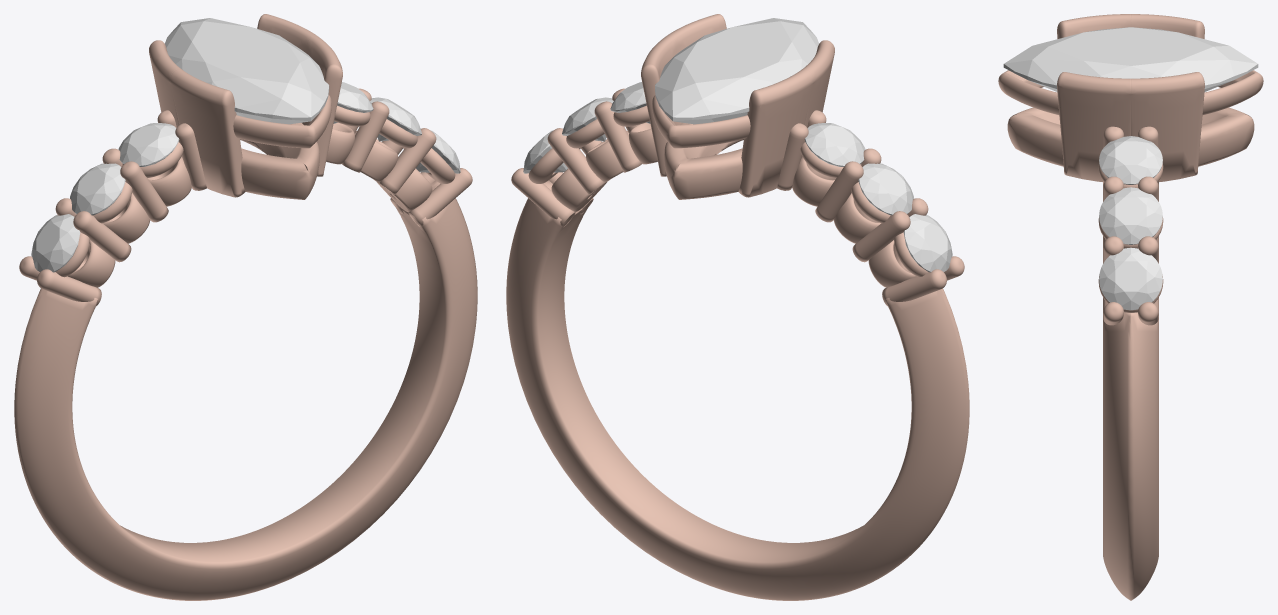
File: diamond-marquise-rosegold-halfmoonbezel-knifeedge-7stone.glb
3 views of the same model, side by side, from view 1: azimuth 30°, elevation 25°; view 2: azimuth 150°, elevation 25°; view 3: azimuth 270°, elevation 25° (orthographic). The views are drawn at different scales.
Parts seen in each view (by area): view 1: metal.003, stone.001, dia.002, dia.015, dia.016, dia.018, dia.019, dia.017; view 2: metal.003, stone.001, dia.002, dia.015, dia.016, dia.018, dia.019, dia.017; view 3: metal.003, stone.001, dia.017, dia.018, dia.019.
Part boxes in pixels (x1=…): metal.003: x1=14, y1=14, x2=477, y2=600; stone.001: x1=165, y1=18, x2=329, y2=124; dia.002: x1=31, y1=214, x2=80, y2=272; dia.015: x1=70, y1=163, x2=125, y2=215; dia.016: x1=118, y1=123, x2=179, y2=166; dia.018: x1=370, y1=97, x2=421, y2=141; dia.019: x1=333, y1=82, x2=373, y2=123; dia.017: x1=416, y1=128, x2=460, y2=173; metal.003: x1=506, y1=14, x2=969, y2=600; stone.001: x1=655, y1=18, x2=818, y2=124; dia.002: x1=903, y1=214, x2=952, y2=272; dia.015: x1=858, y1=163, x2=913, y2=215; dia.016: x1=804, y1=123, x2=865, y2=166; dia.018: x1=562, y1=97, x2=613, y2=141; dia.019: x1=610, y1=82, x2=650, y2=123; dia.017: x1=523, y1=128, x2=567, y2=173; metal.003: x1=998, y1=14, x2=1263, y2=600; stone.001: x1=1003, y1=27, x2=1258, y2=91; dia.017: x1=1099, y1=247, x2=1162, y2=310; dia.018: x1=1099, y1=187, x2=1162, y2=244; dia.019: x1=1099, y1=136, x2=1162, y2=184.
Bounding box in the file's own units: 20.5 × 22.93 × 10.4.
